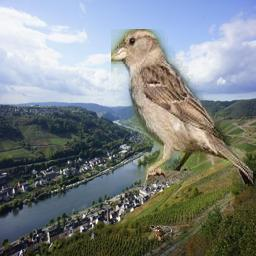Sparrow: (111, 30, 253, 185), (150, 225, 172, 241)
